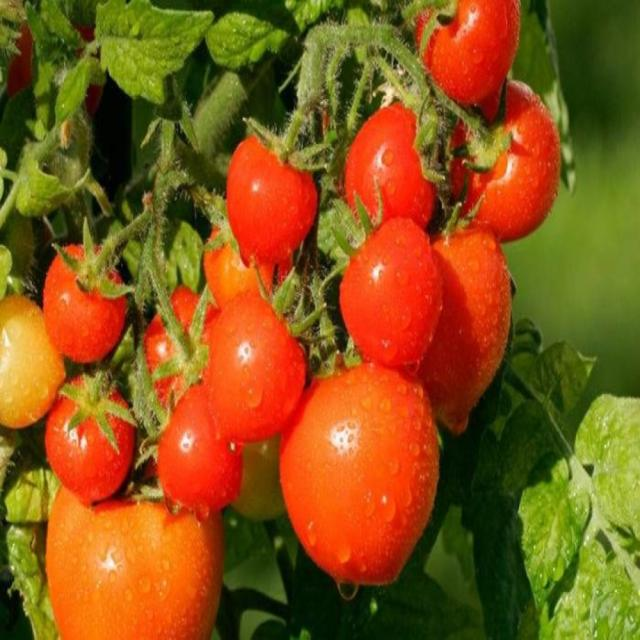level 4: (0, 290, 68, 424)
level 5: (48, 444, 222, 640), (205, 218, 282, 316)
level 6: (281, 360, 442, 587), (396, 221, 516, 429), (447, 79, 563, 240), (339, 216, 448, 385), (345, 102, 448, 260), (210, 296, 312, 438), (230, 132, 320, 268), (45, 378, 135, 507), (142, 290, 232, 416), (159, 385, 243, 517), (416, 0, 520, 97), (44, 244, 125, 358), (38, 19, 106, 127), (0, 0, 36, 94)
